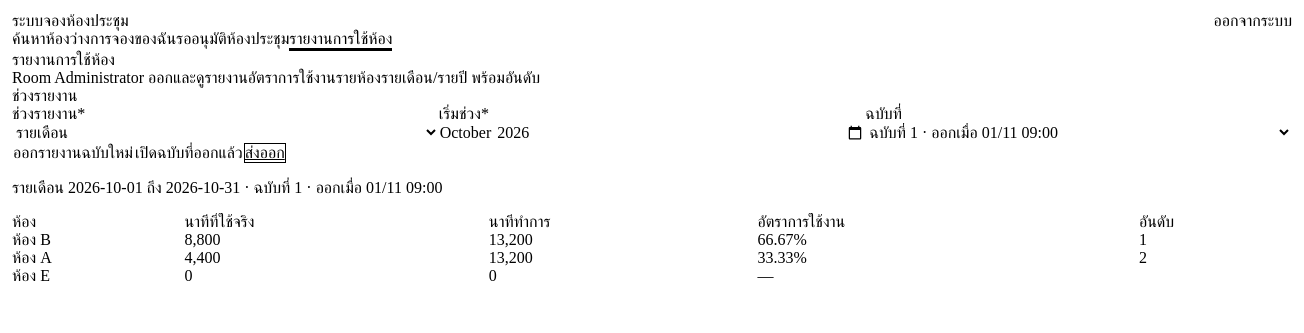
it: FE-mrr-016 utilization report page (RPT-mrr-001) › loading state — กำลังคำนวณรายงาน… while issuing, and ออกรายงานฉบับใหม่ is disabled so one issue is made
Step 1. Click the button with test id "rpt-mrr-001-issue" → {"x": 73, "y": 153}, box [12,143,134,163]
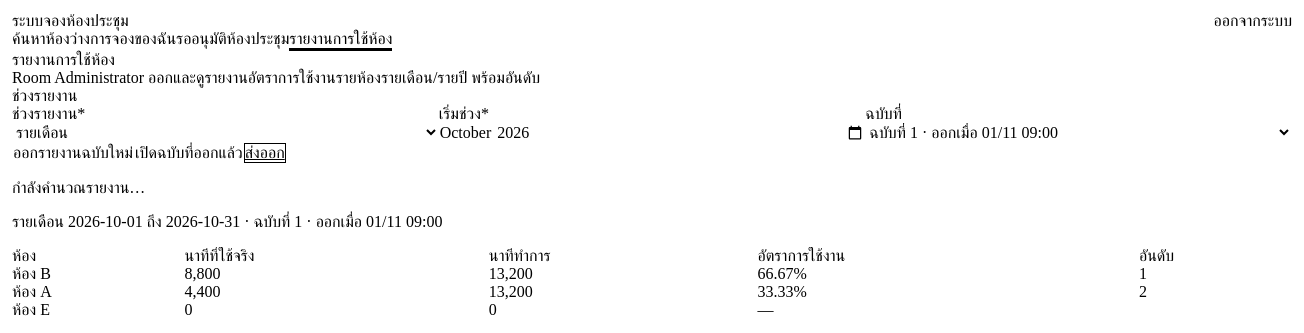
Expected: the text "กำลังคำนวณรายงาน…" is shown, [12,179,145,196]
Step 2. Click the button with test id "rpt-mrr-001-issue" → {"x": 73, "y": 153}, box [12,143,134,163]
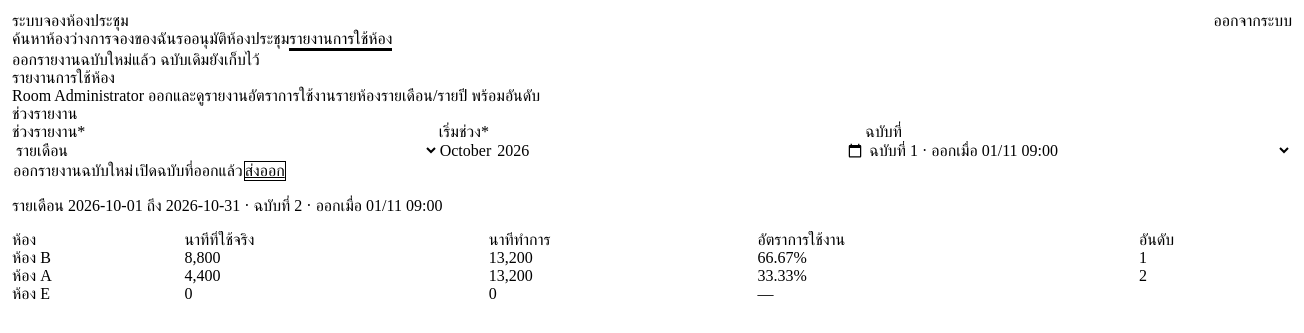
Expected: the message "ออกรายงานฉบับใหม่แล้ว ฉบับเดิมยังเก็บไว้" is shown, [12,51,260,68]
Expected: the text "กำลังคำนวณรายงาน…" is gone
